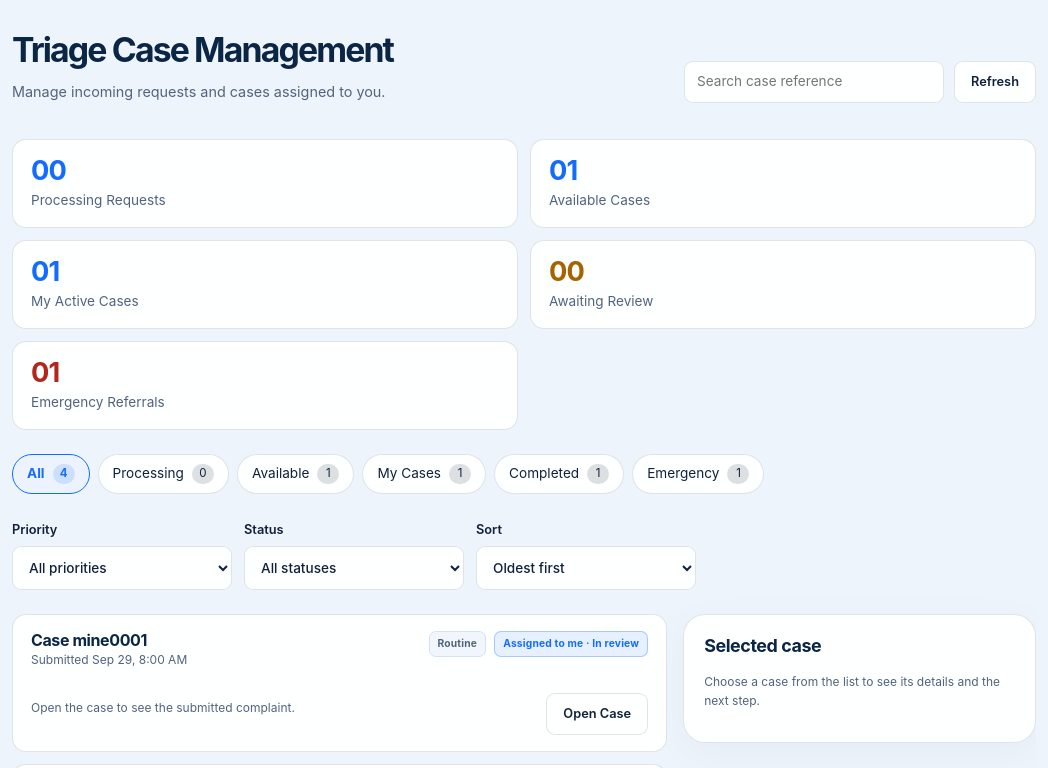
Scenario: CasesPage › shows real counts and only claimable cases under Available
The image size is (1048, 768).
Expected: the heading "Triage Case Management" is shown, [12,30,393,70]
Click the tab "Available 1" at [296, 474], box [237,454,354,494]
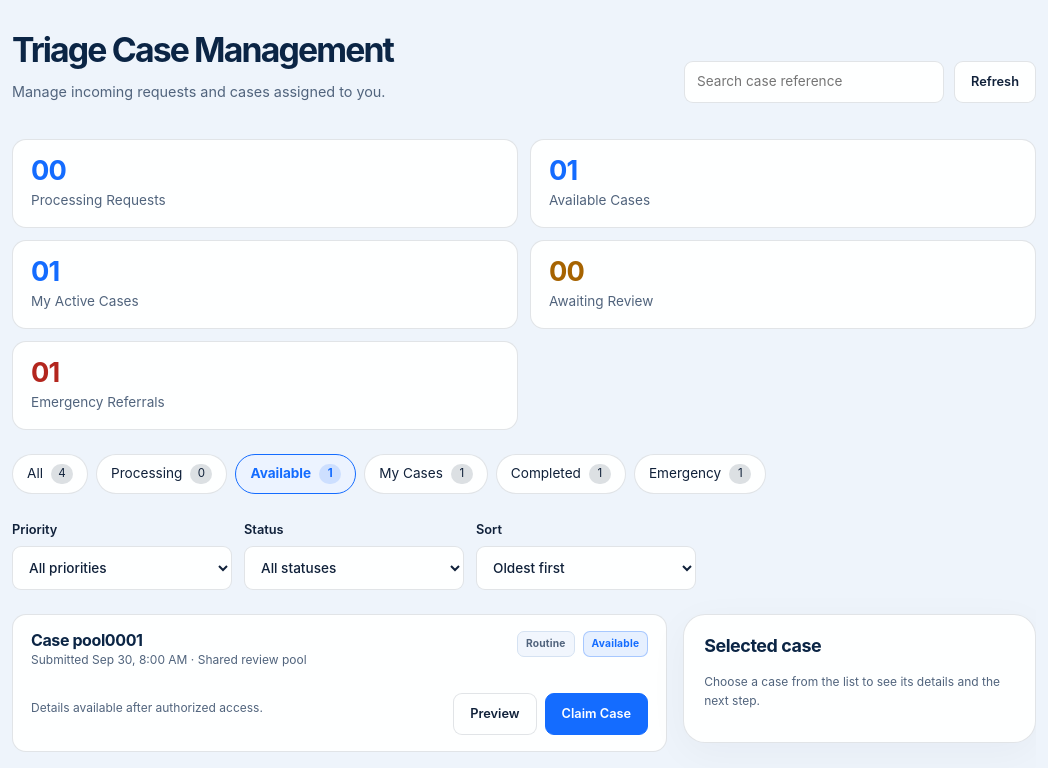
Expected: the button "01 Available Cases" is shown, [530,139,1036,228]
Now the heading "Case mine0001" is gone
